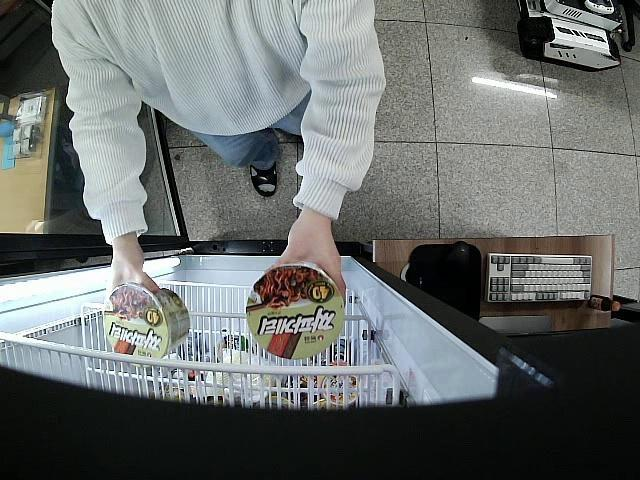03_chapagetti_L: (247, 268, 344, 360), (103, 284, 190, 362)
